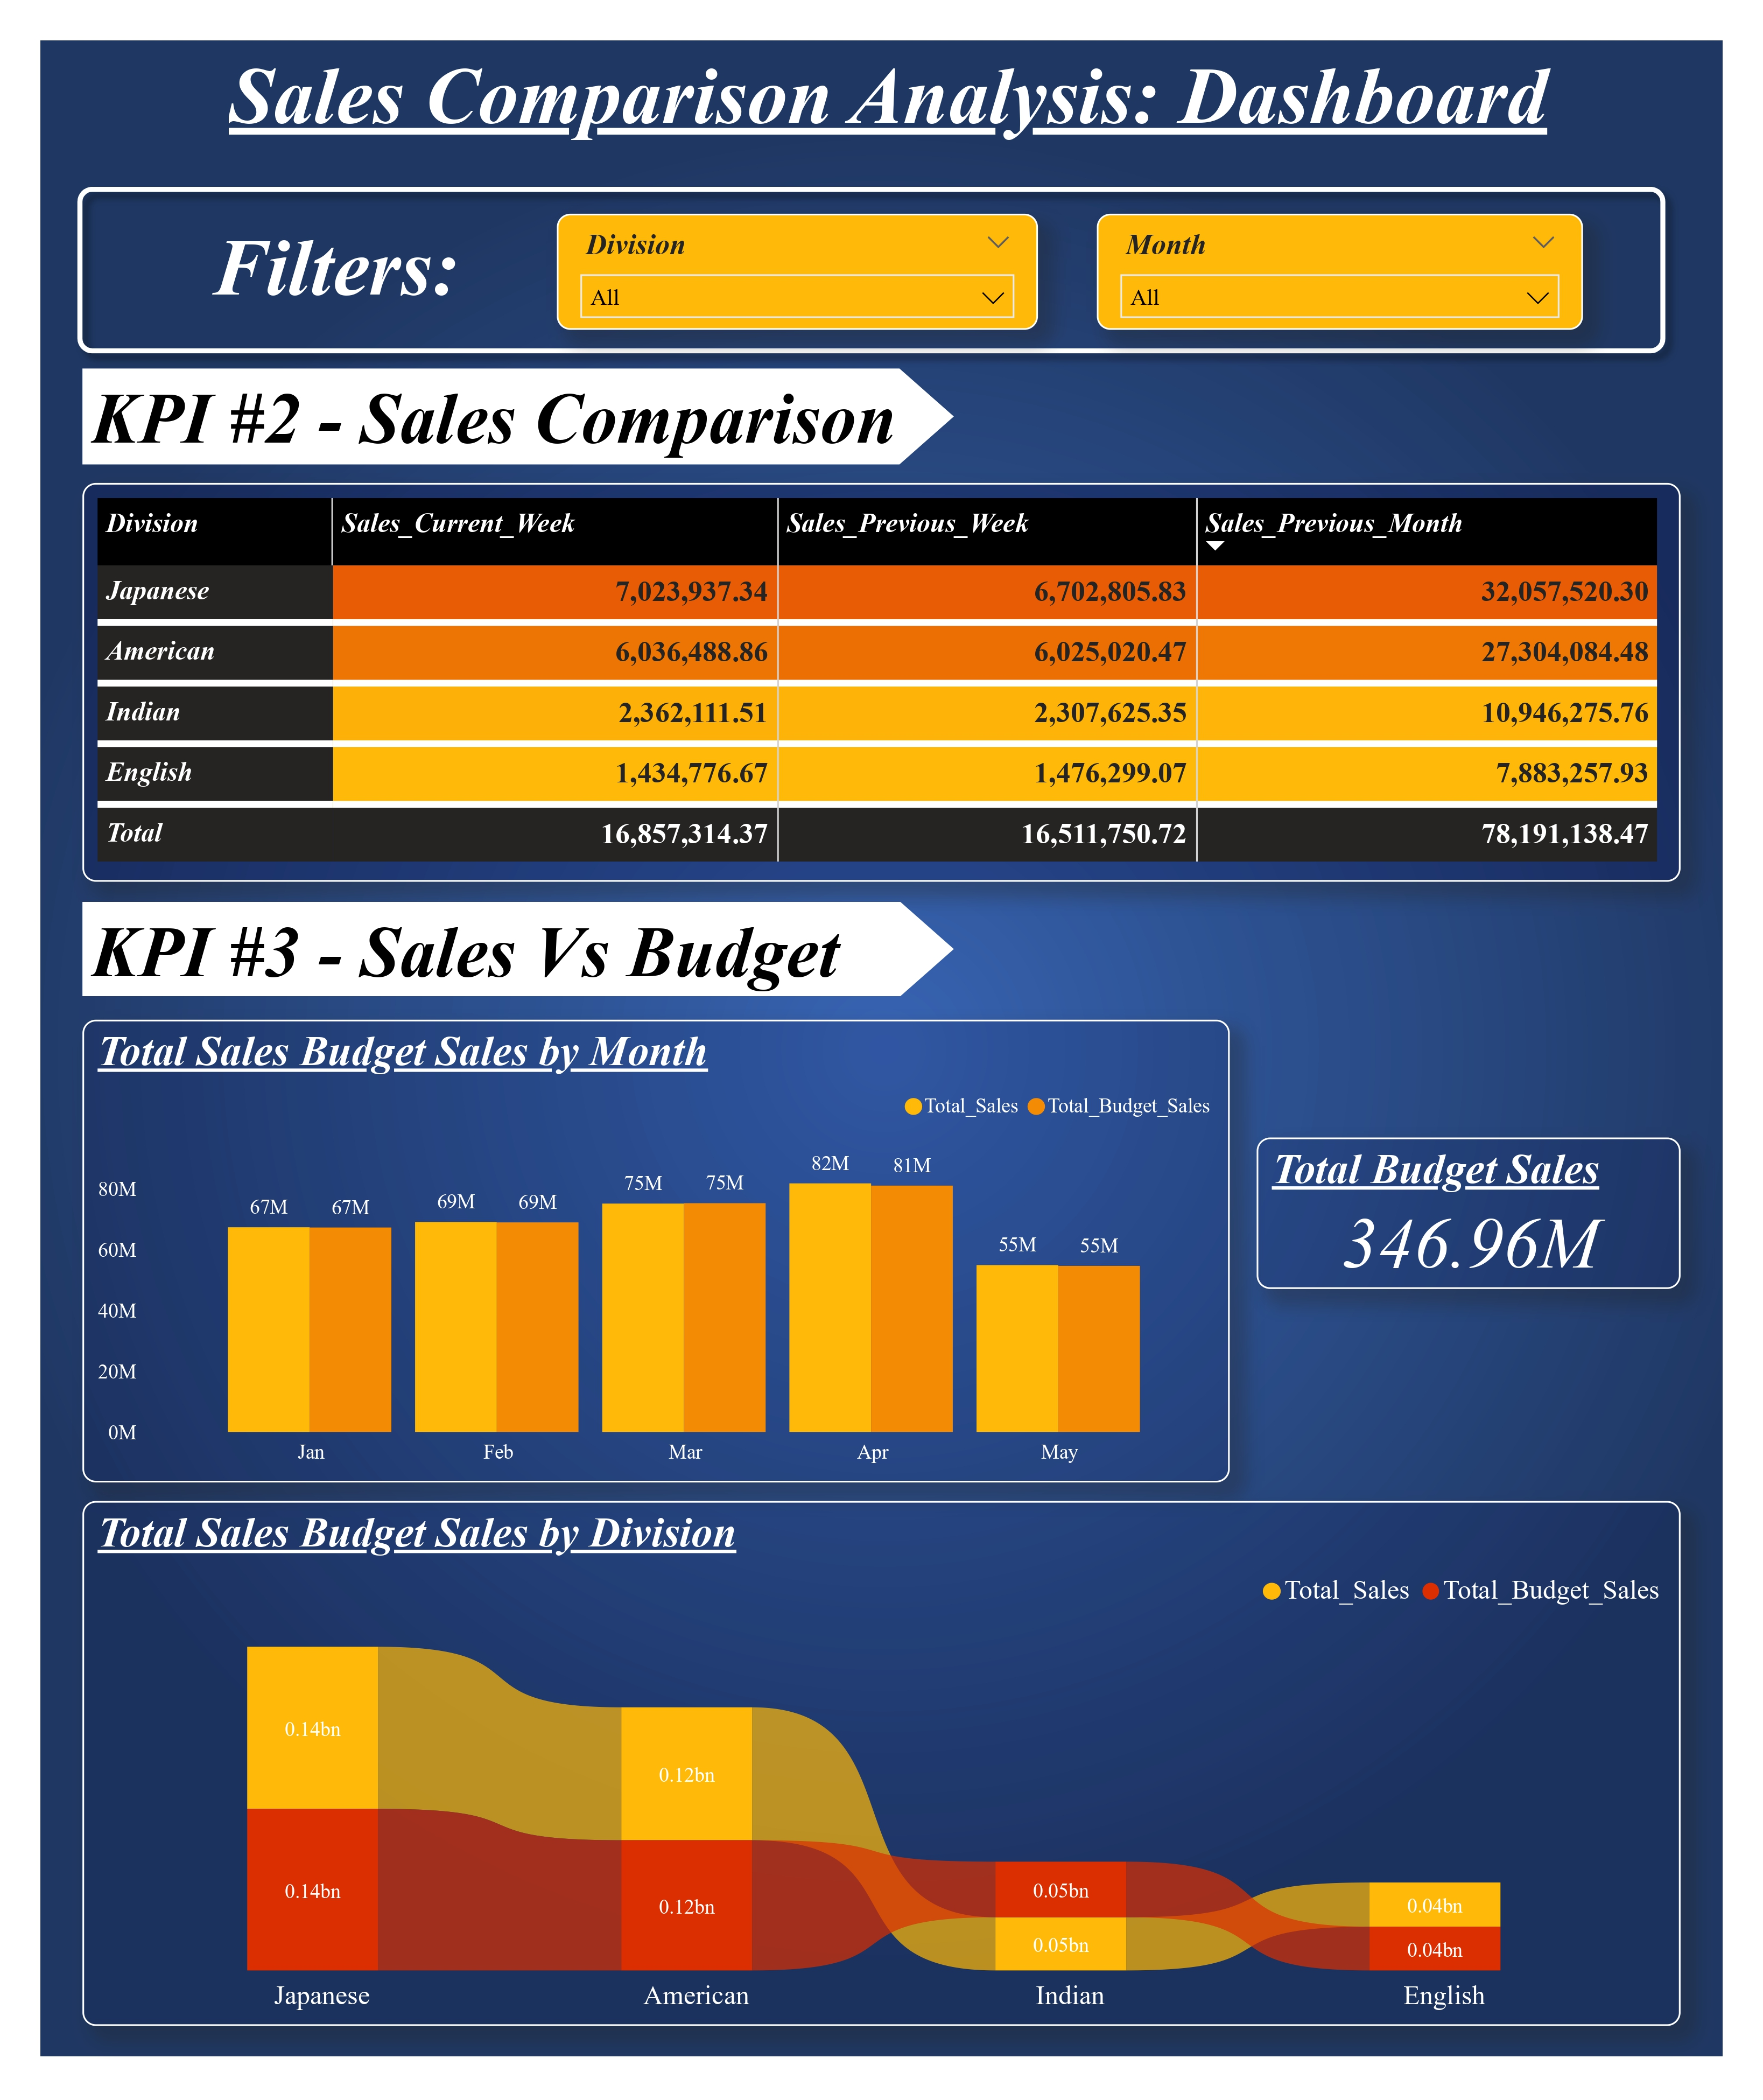

This screenshot's page, from the dashboard's own definition file:
{"tool":"powerbi","page":{"name":"Sales Comparision","canvas":[1000,1200],"ordinal":2},"visuals":[{"type":"textbox","box":[107,0,802,78],"z":0},{"type":"shape","box":[13.3,78.3,961.7,116.7],"z":1000},{"type":"slicer","fields":{"Values":["Divisions.Division"]},"box":[306.7,103.3,286.7,68.3],"z":2000},{"type":"slicer","fields":{"Values":["Date_Table.Month_Name"]},"box":[628.3,103.3,288.3,68.3],"z":3000},{"type":"textbox","box":[96.7,101.7,170,73.3],"z":4000},{"type":"card","title":"Total Budget Sales","fields":{"Values":["Calculated_Measures.Total_Budget_Sales"]},"box":[723.3,651.7,251.7,90],"z":5000},{"type":"pivotTable","fields":{"Rows":["Divisions.Division"],"Values":["Calculated_Measures.Sales_Current_Week","Calculated_Measures.Sales_Previous_Week","Calculated_Measures.Sales_Previous_Month"]},"box":[25,263.3,950,236.7],"z":6000},{"type":"clusteredColumnChart","title":"Total Sales Budget Sales by Month","fields":{"Category":["Date_Table.Month_Name"],"Y":["Calculated_Measures.Total_Sales","Calculated_Measures.Total_Budget_Sales"]},"box":[25,581.7,681.7,275],"z":7000},{"type":"shape","box":[25,511.7,518.3,56.7],"z":8000},{"type":"shape","box":[25,195,518.3,56.7],"z":9000},{"type":"ribbonChart","title":"Total Sales Budget Sales by Division","fields":{"Category":["Divisions.Division"],"Y":["Calculated_Measures.Total_Sales","Calculated_Measures.Total_Budget_Sales"]},"box":[25,868.3,950,311.7],"z":10000},{"type":"textbox","box":[25,195,556.7,71.7],"z":11000},{"type":"textbox","box":[25,511.7,475,71.7],"z":12000}]}

Visuals, with their boxes in screenshot pixels (x1, y1, x2, y2):
textbox: [left=220, top=40, right=1570, bottom=172]
shape: [left=63, top=172, right=1681, bottom=368]
slicer - Divisions.Division: [left=556, top=214, right=1038, bottom=329]
slicer - Date_Table.Month_Name: [left=1097, top=214, right=1582, bottom=329]
textbox: [left=203, top=212, right=489, bottom=335]
"Total Budget Sales" card: [left=1257, top=1137, right=1681, bottom=1289]
pivotTable - Divisions.Division x Calculated_Measures.Sales_Current_Week: [left=82, top=484, right=1681, bottom=882]
"Total Sales Budget Sales by Month" clusteredColumnChart: [left=82, top=1019, right=1229, bottom=1482]
shape: [left=82, top=901, right=954, bottom=997]
shape: [left=82, top=368, right=954, bottom=464]
"Total Sales Budget Sales by Division" ribbonChart: [left=82, top=1501, right=1681, bottom=2026]
textbox: [left=82, top=368, right=1019, bottom=489]
textbox: [left=82, top=901, right=882, bottom=1022]
